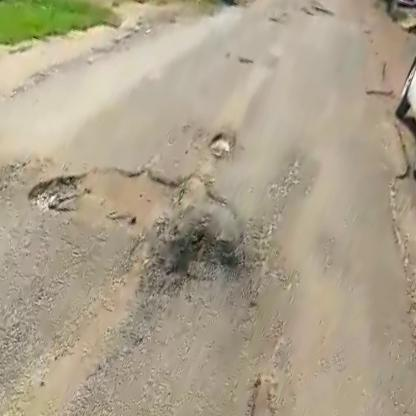pothole: (19, 126, 217, 265), (200, 130, 237, 165)
